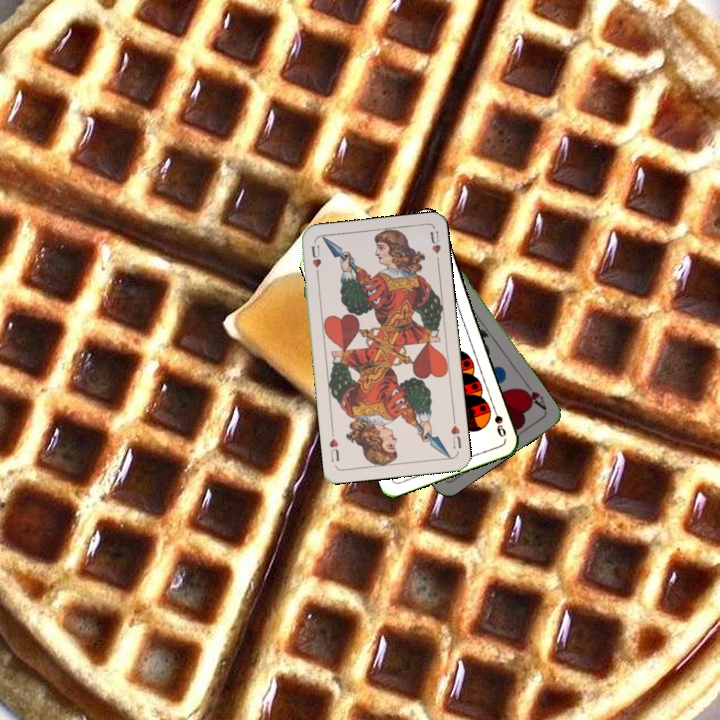HA: (517, 378, 549, 413)
HU: (307, 241, 324, 279), (447, 414, 464, 451)
S9: (488, 401, 509, 440)
